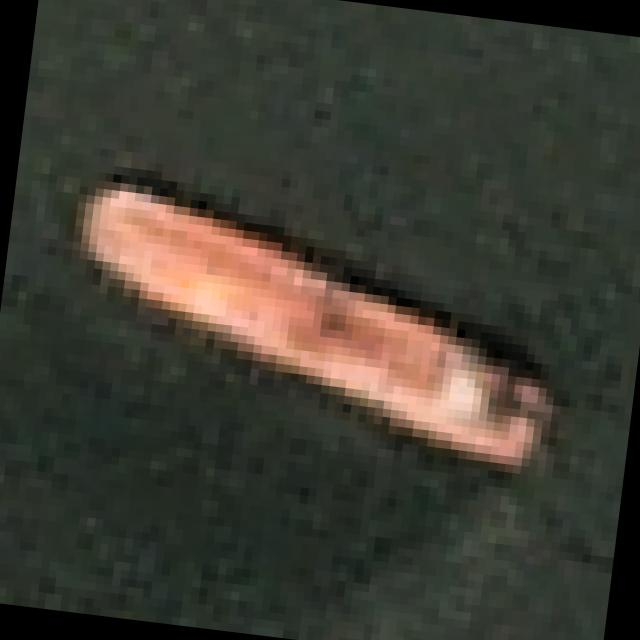ship: (40, 155, 585, 500)
